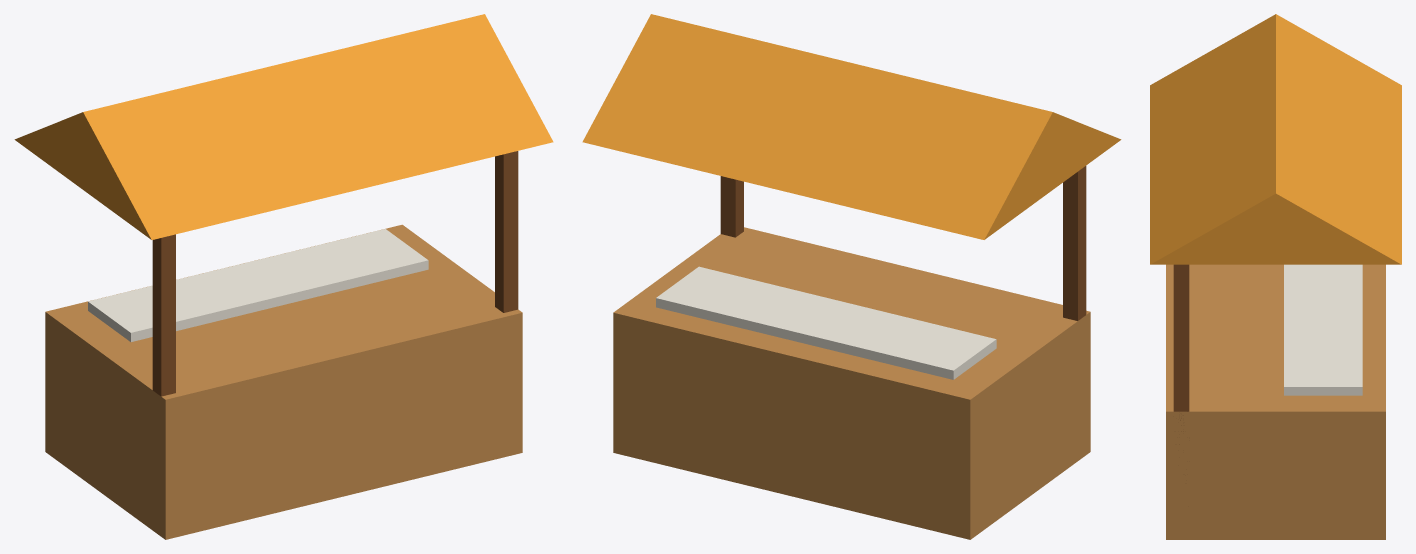
The model's file is h_fish_market_stall.glb.
3 renders of one model, left to right at view 1: azimuth 30°, elevation 25°; view 2: azimuth 150°, elevation 25°; view 3: azimuth 270°, elevation 25°, orthographic. The views are drawn at different scales.
Parts seen in each view (by area): view 1: fish_market_stall; view 2: fish_market_stall; view 3: fish_market_stall.
Boxes of the visible parts, x1,y1,x2,y2 form: fish_market_stall: (14,14,553,539); fish_market_stall: (582,14,1121,539); fish_market_stall: (1150,14,1401,539).
Size of the model in its own units: 2.7 by 2.5 by 1.6.
